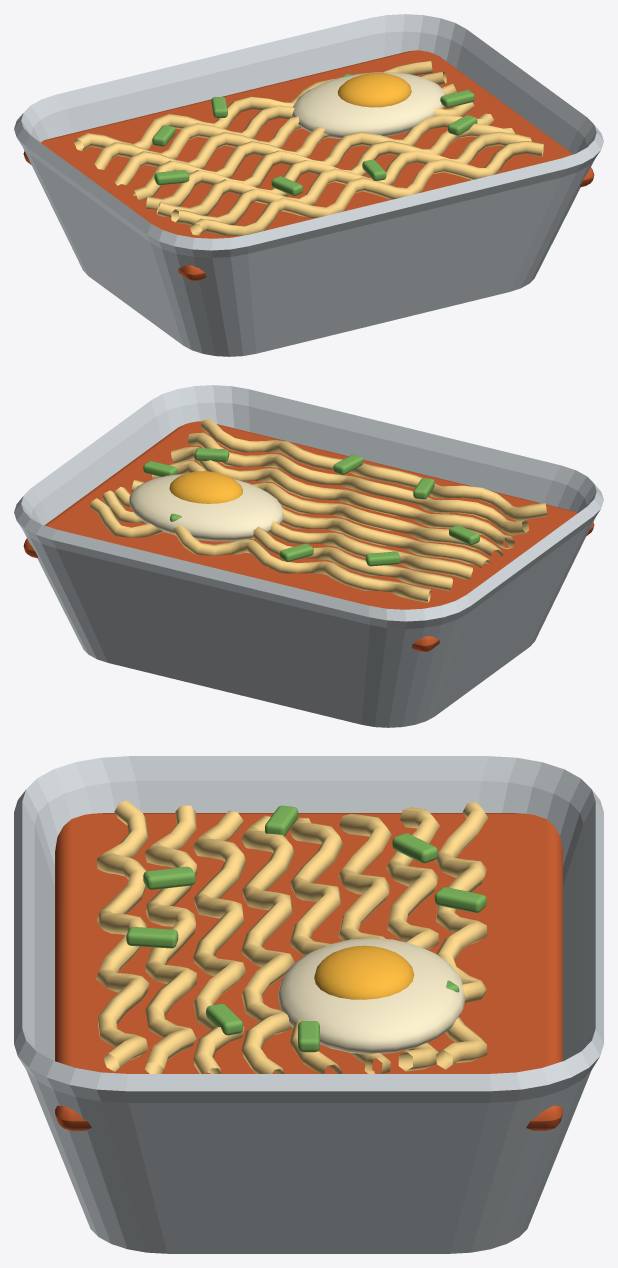
Rendered from ramen.glb.
3 views of the same model, one above another, from view 1: azimuth 30°, elevation 25°; view 2: azimuth 150°, elevation 25°; view 3: azimuth 270°, elevation 25° (orthographic). The views are drawn at different scales.
Visible parts, largest first — view 1: ramen; view 2: ramen; view 3: ramen.
Boxes of the visible parts, bbox=[...] form: ramen: bbox=[14, 14, 603, 356]; ramen: bbox=[14, 385, 603, 727]; ramen: bbox=[14, 756, 603, 1253].
Size of the model in its own units: 0.319 by 0.106 by 0.244.
